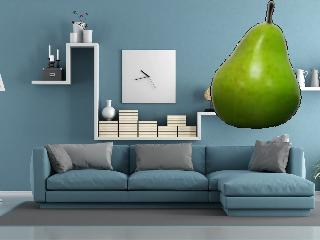pear: (209, 0, 307, 133)
